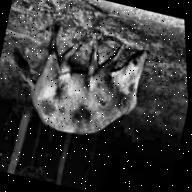boar: (0, 10, 160, 169)
